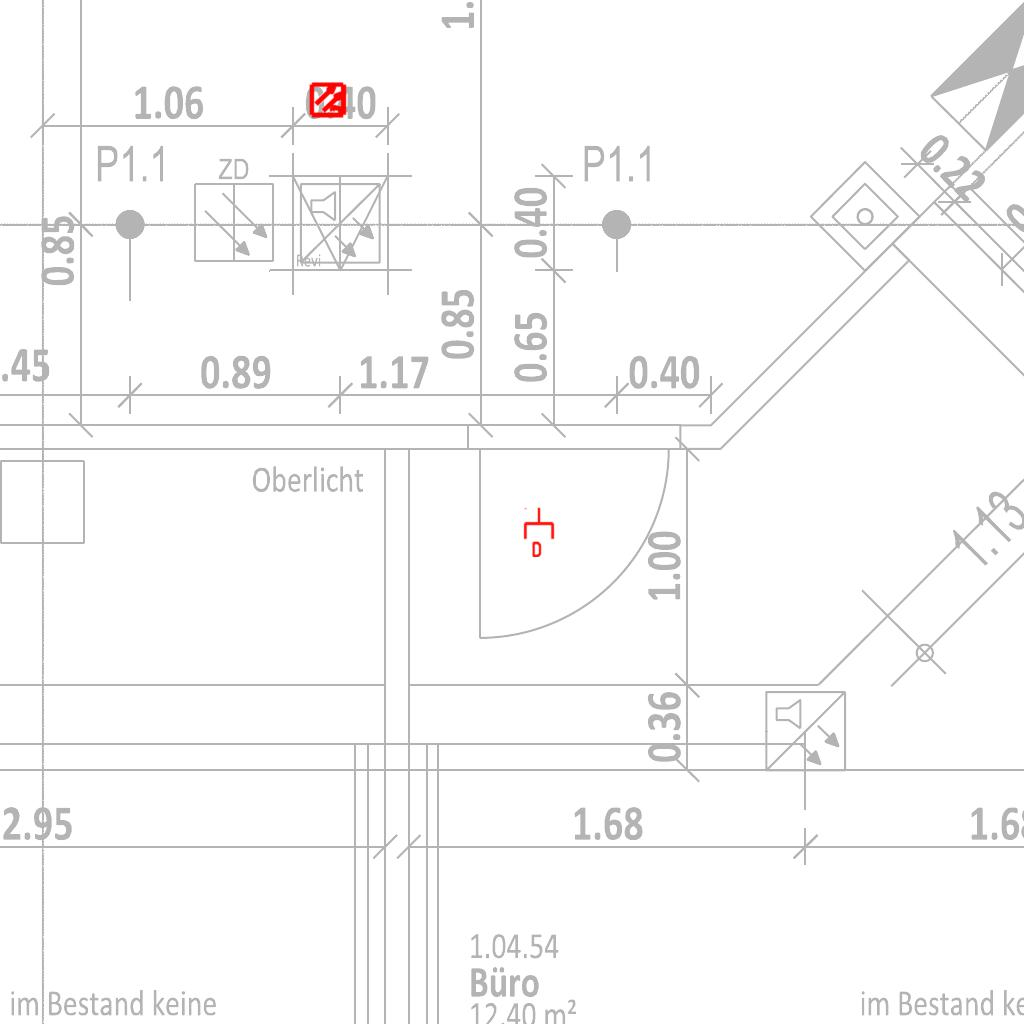Datenanschluss_einfach: (522, 507, 556, 557)
OT_Multisensormelder_(Kombination_RMO_WMD): (301, 72, 357, 128)
